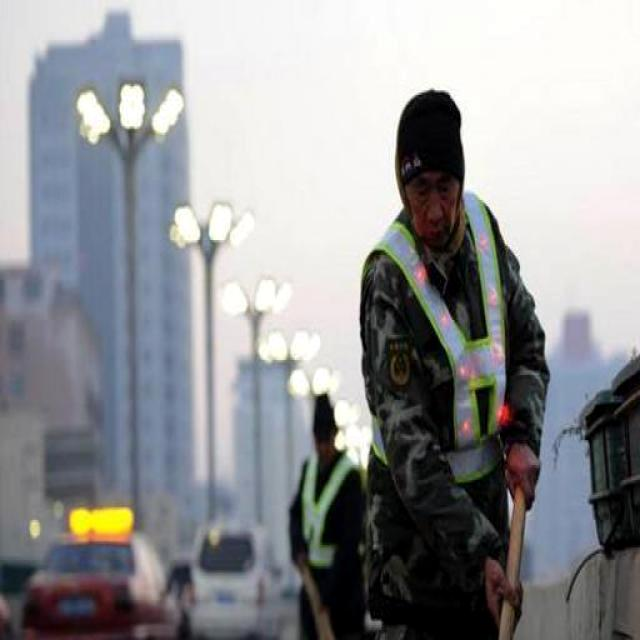no_hard_hat: (395, 90, 462, 184), (312, 392, 336, 436)
person: (361, 90, 549, 639), (289, 395, 364, 639)
